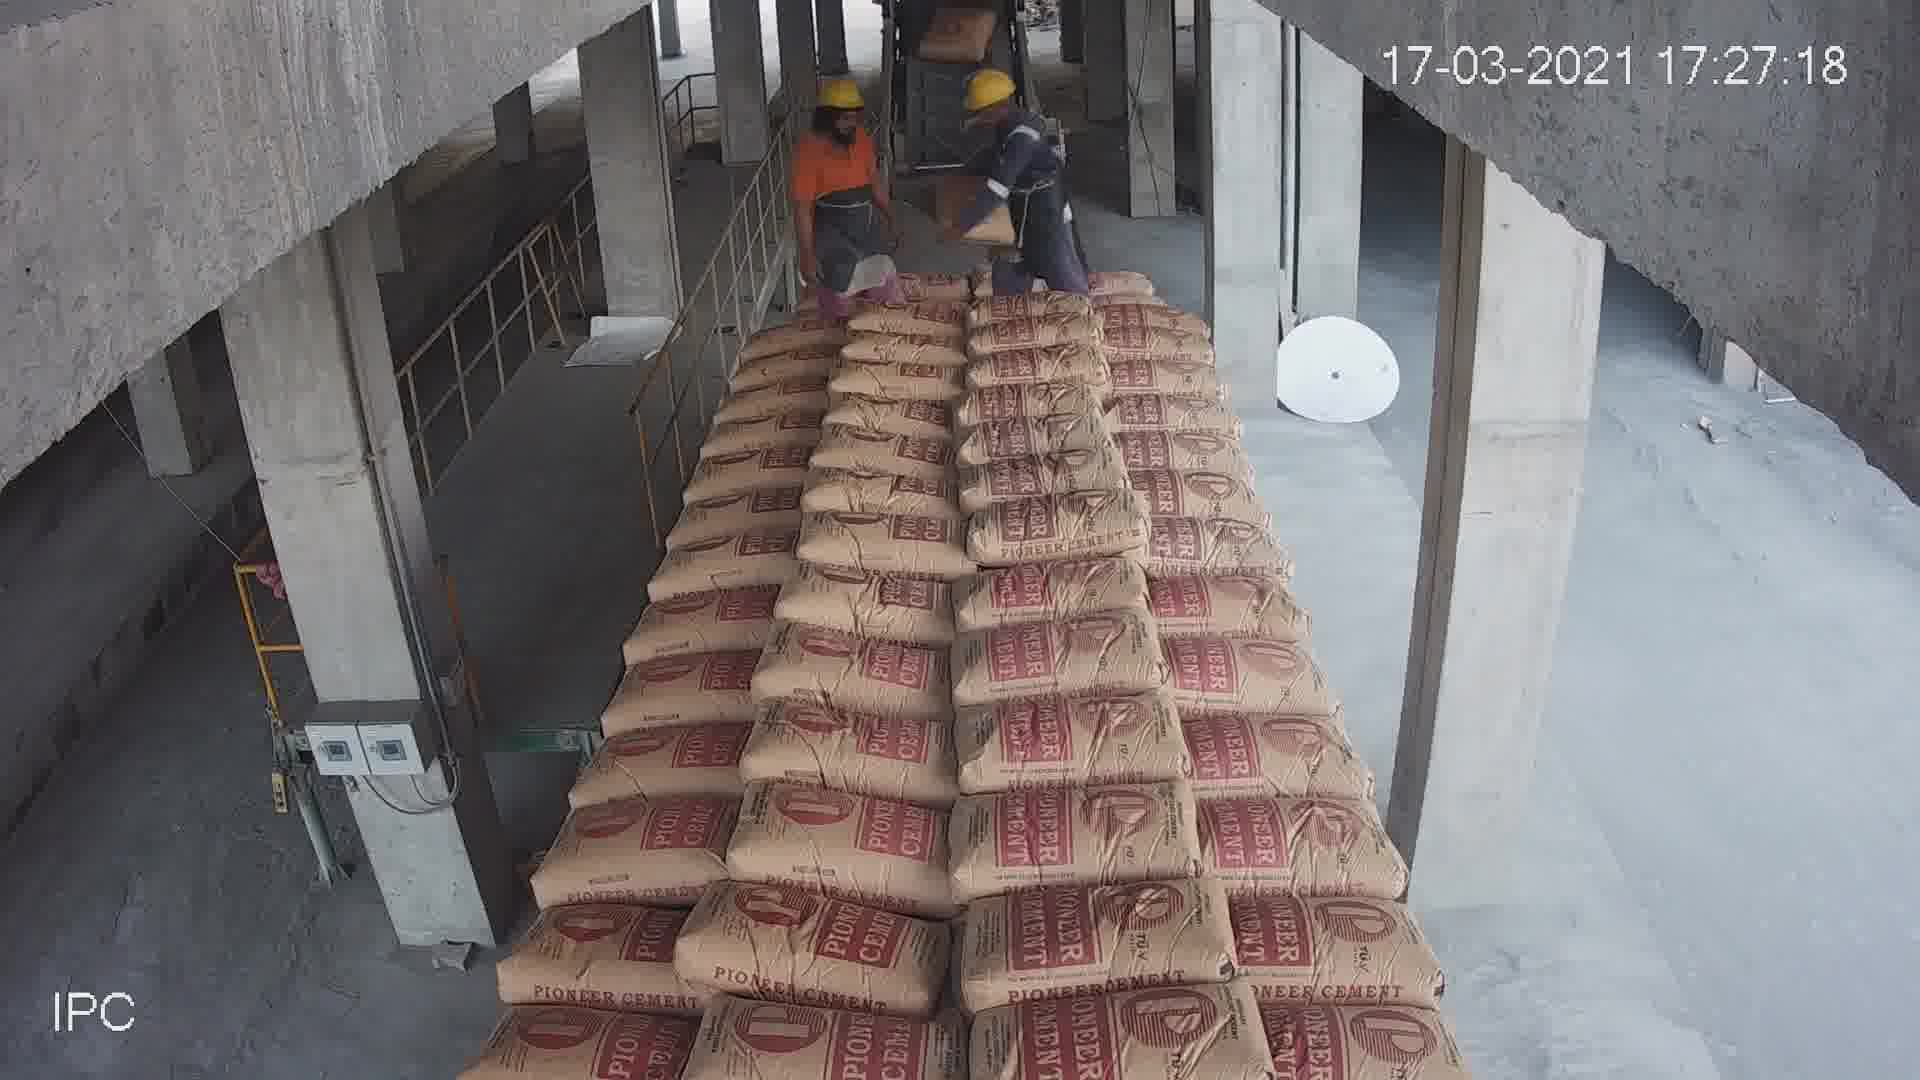bag_h: (957, 877, 1269, 996), (636, 891, 957, 1000), (1170, 889, 1447, 1001), (961, 781, 1220, 901), (541, 783, 764, 913), (729, 789, 955, 910), (975, 688, 1226, 793), (980, 607, 1229, 707), (1170, 790, 1385, 898), (756, 690, 942, 806), (1203, 698, 1386, 814), (502, 906, 692, 1005), (961, 545, 1178, 626), (599, 644, 785, 738), (744, 626, 957, 708), (1159, 626, 1345, 717), (980, 484, 1160, 574), (564, 731, 770, 804), (777, 560, 945, 640), (632, 583, 799, 659), (1129, 570, 1295, 645), (789, 512, 984, 574), (650, 539, 808, 613), (978, 339, 1162, 402), (963, 440, 1130, 506), (800, 419, 975, 479), (785, 464, 965, 520), (684, 484, 820, 555), (1153, 529, 1305, 589), (688, 435, 816, 506), (1124, 465, 1261, 527), (978, 344, 1143, 396), (1102, 388, 1246, 446), (1135, 426, 1274, 485), (976, 376, 1137, 426), (717, 378, 824, 451), (975, 410, 1112, 464), (825, 353, 964, 404), (703, 405, 832, 458), (825, 389, 957, 436), (1088, 328, 1222, 375), (841, 297, 976, 340), (1081, 298, 1197, 347), (833, 327, 972, 367), (969, 291, 1098, 334), (1105, 363, 1240, 402), (874, 262, 986, 310), (733, 342, 829, 394), (760, 314, 845, 359), (1083, 272, 1160, 301)
bag_v: (936, 169, 1014, 241), (922, 16, 993, 65)
belt: (882, 7, 1027, 212)
